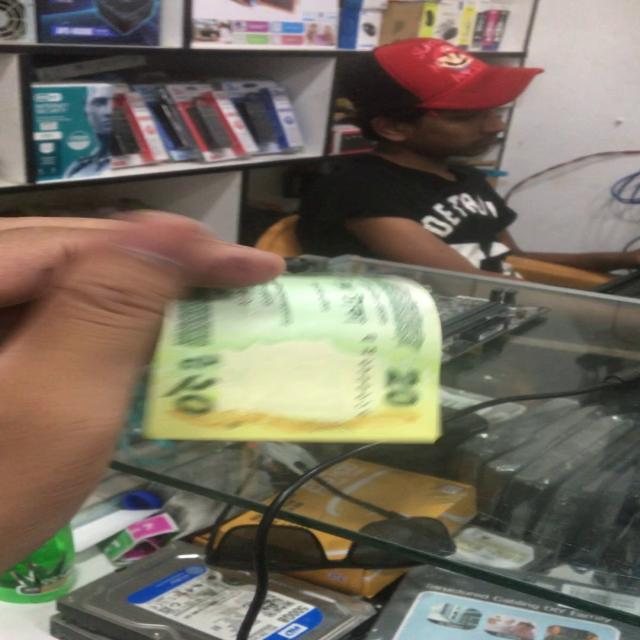Taka: (157, 265, 449, 454)
